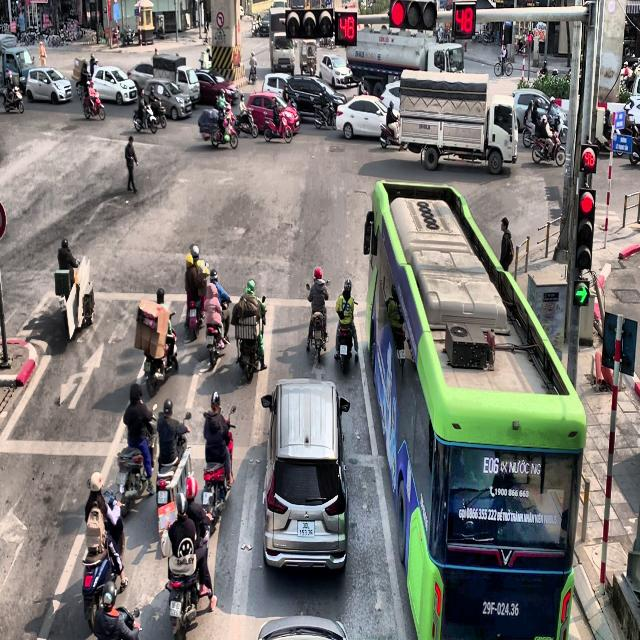lisence_plate: (481, 597, 520, 619), (296, 518, 315, 538), (169, 599, 182, 617)
